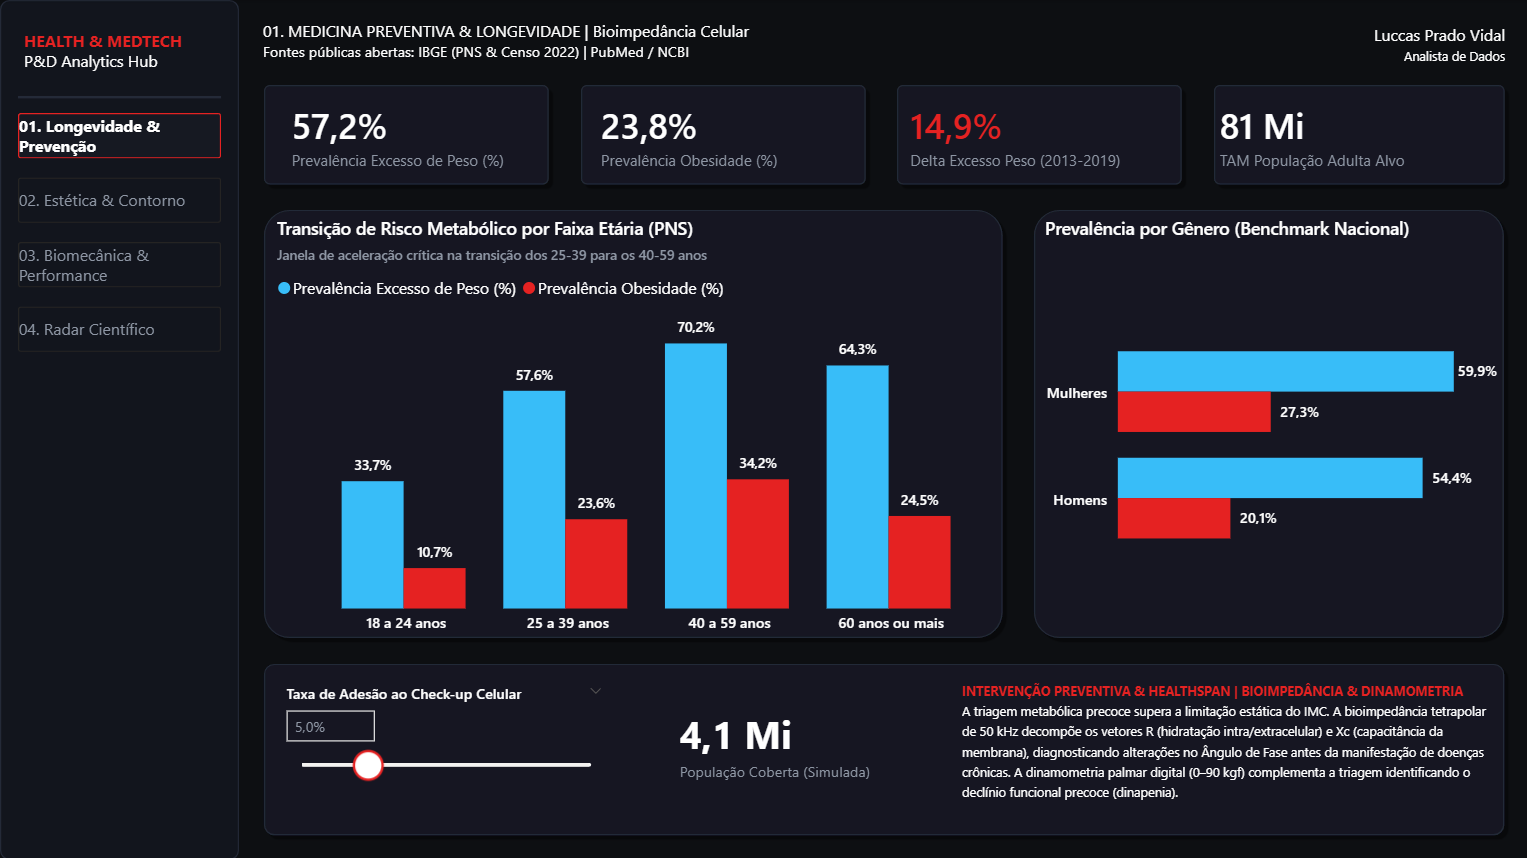

The page's visual inventory and layout, read from the dashboard file:
{"tool":"powerbi","page":{"name":"01. Longevidade & Prevenção","canvas":[1280,720],"ordinal":0},"visuals":[{"type":"shape","box":[0,0,200.1,720],"z":0},{"type":"shape","box":[215,65,250,95],"z":0,"group":"g1"},{"type":"group","id":"g1","title":"Grupo 1","box":[215,65,1050,640],"z":1000},{"type":"shape","box":[745,65,250,95],"z":1000,"group":"g1"},{"type":"textbox","box":[215,12,700,45],"z":2000},{"type":"shape","box":[1010,65,255,95],"z":2000,"group":"g1"},{"type":"textbox","box":[920,15,345,46],"z":3000},{"type":"shape","box":[215,170,630,370],"z":3000,"group":"g1"},{"type":"textbox","box":[15,20,150,50],"z":4000},{"type":"shape","box":[480,65,250,95],"z":4000,"group":"g1"},{"type":"shape","box":[15,75,170,12],"z":5000},{"type":"shape","box":[215,550,1050,155],"z":5000,"group":"g1"},{"type":"pageNavigator","box":[15,95,170,200],"z":6000},{"type":"shape","box":[860,170,405,370],"z":6000,"group":"g1"},{"type":"cardVisual","fields":{"Data":["_Medidas.Prevalência Excesso de Peso (%)","_Medidas.Prevalência Obesidade (%)","_Medidas.Delta Excesso Peso (2013-2019)","_Medidas.TAM População Adulta Alvo"]},"box":[215.2,64.9,1064.8,95.5],"z":7000},{"type":"clusteredColumnChart","title":"Transição de Risco Metabólico por Faixa Etária (PNS)","fields":{"Category":["f_Demografia_Obesidade_BR.Grupo_Idade"],"Y":["_Medidas.Prevalência Excesso de Peso (%)","_Medidas.Prevalência Obesidade (%)"]},"box":[227.2,180.9,632.6,359],"z":8000},{"type":"clusteredBarChart","title":"Prevalência por Gênero (Benchmark Nacional)","fields":{"Category":["f_Demografia_Obesidade_BR.Sexo"],"Y":["_Medidas.Prevalência Excesso de Peso (%)","_Medidas.Prevalência Obesidade (%)"]},"box":[870,180.9,388.6,359],"z":9000},{"type":"textbox","box":[800.1,563.5,451,129.9],"z":9003,"group":"g1"},{"type":"slicer","fields":{"Values":["p_Adesao_Checkup_Celular.p_Adesao_Checkup_Celular"]},"box":[227.1,567.1,289.4,120.4],"z":10000},{"type":"cardVisual","fields":{"Data":["_Medidas.População Rastreada com BIA (Simulado)"]},"box":[540,560,240,125],"z":11000}]}

Visuals, with their boxes in screenshot pixels (x1, y1, x2, y2), scaled from the page's 1280x720 canvas onto the 1527x858 screenshot:
shape: locate(0, 0, 239, 857)
shape: locate(256, 77, 555, 191)
"Grupo 1" group: locate(256, 77, 1509, 840)
shape: locate(889, 77, 1187, 191)
textbox: locate(256, 14, 1092, 68)
shape: locate(1205, 77, 1509, 191)
textbox: locate(1098, 18, 1509, 73)
shape: locate(256, 203, 1008, 644)
textbox: locate(18, 24, 197, 83)
shape: locate(573, 77, 871, 191)
shape: locate(18, 89, 221, 104)
shape: locate(256, 655, 1509, 840)
pageNavigator: locate(18, 113, 221, 352)
shape: locate(1026, 203, 1509, 644)
cardVisual - _Medidas.Prevalência Excesso de Peso (%) x _Medidas.Prevalência Obesidade (%): locate(257, 77, 1526, 191)
"Transição de Risco Metabólico por Faixa Etária (PNS)" clusteredColumnChart: locate(271, 216, 1026, 643)
"Prevalência por Gênero (Benchmark Nacional)" clusteredBarChart: locate(1038, 216, 1501, 643)
textbox: locate(954, 672, 1493, 826)
slicer - p_Adesao_Checkup_Celular.p_Adesao_Checkup_Celular: locate(271, 676, 616, 819)
cardVisual - _Medidas.População Rastreada com BIA (Simulado): locate(644, 667, 931, 816)
